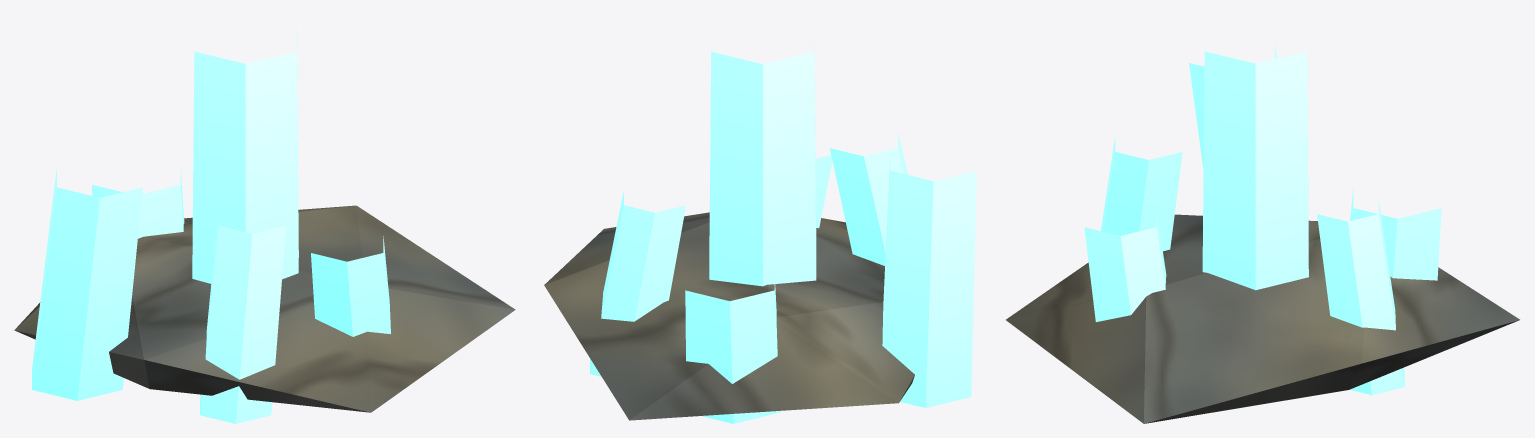
The model's file is crystal_cluster_b.glb.
3 views of the same model, side by side, from view 1: azimuth 30°, elevation 25°; view 2: azimuth 150°, elevation 25°; view 3: azimuth 270°, elevation 25° (orthographic).
Parts seen in each view (by area): view 1: crystal_cluster_b; view 2: crystal_cluster_b; view 3: crystal_cluster_b.
Part boxes in pixels (x1,y1,x2,y2): crystal_cluster_b: [14, 27, 515, 423]; crystal_cluster_b: [544, 41, 976, 423]; crystal_cluster_b: [1006, 43, 1519, 423].
Bounding box in the file's own units: 1.1 × 0.75 × 1.16.
2 materials, 1 textured.
